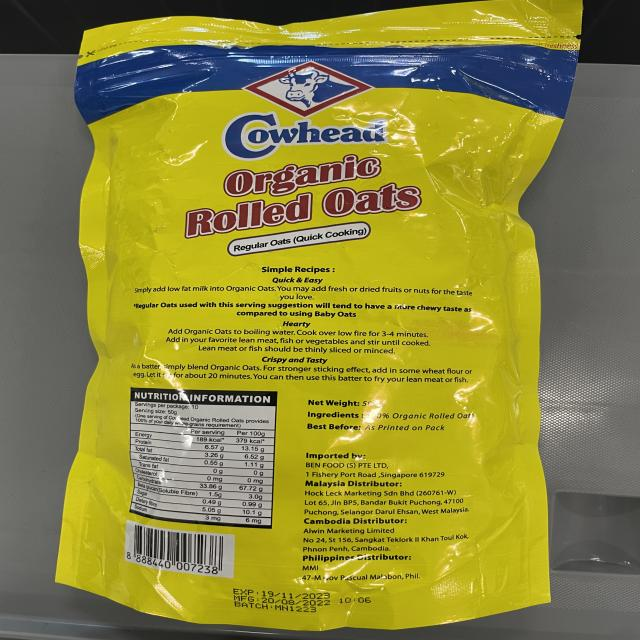object_name: (104, 26, 531, 604)
